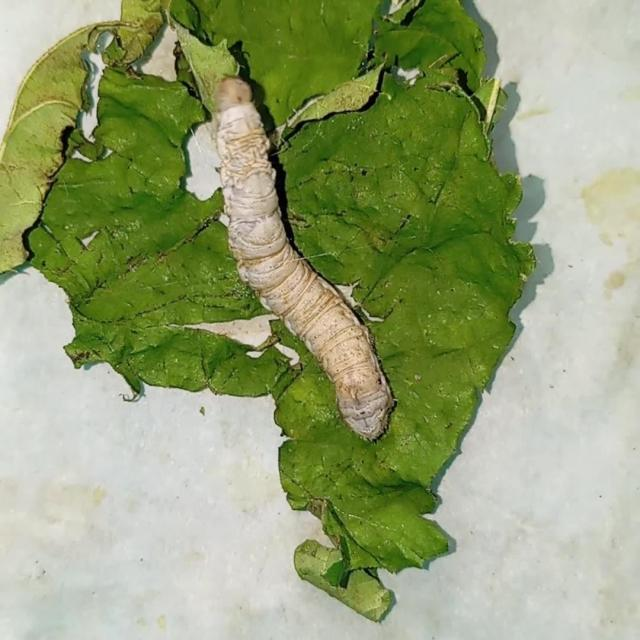Grasserie: (190, 59, 413, 456)
